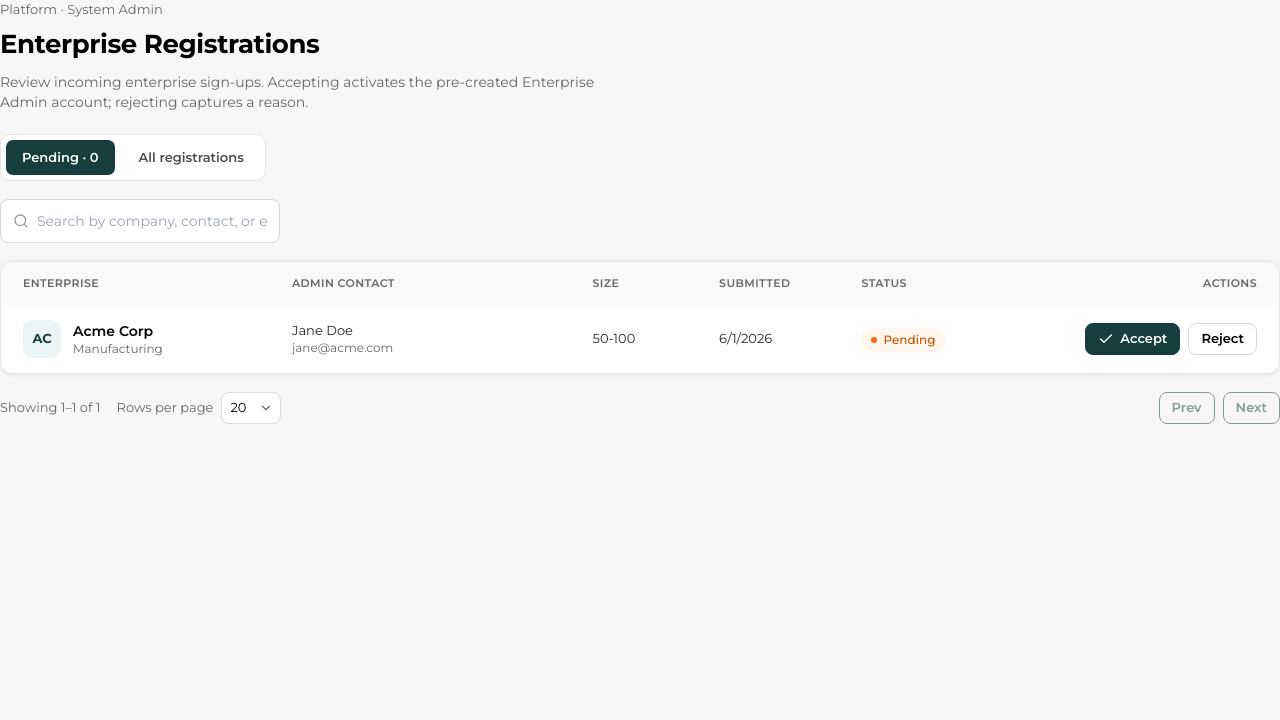
Reject with a reason posts it and reloads the list
Expected: the text "Acme Corp" is shown, x1=73 y1=320 x2=163 y2=340
Click the button "Reject": (1223, 338) x1=1188 y1=322 x2=1257 y2=354
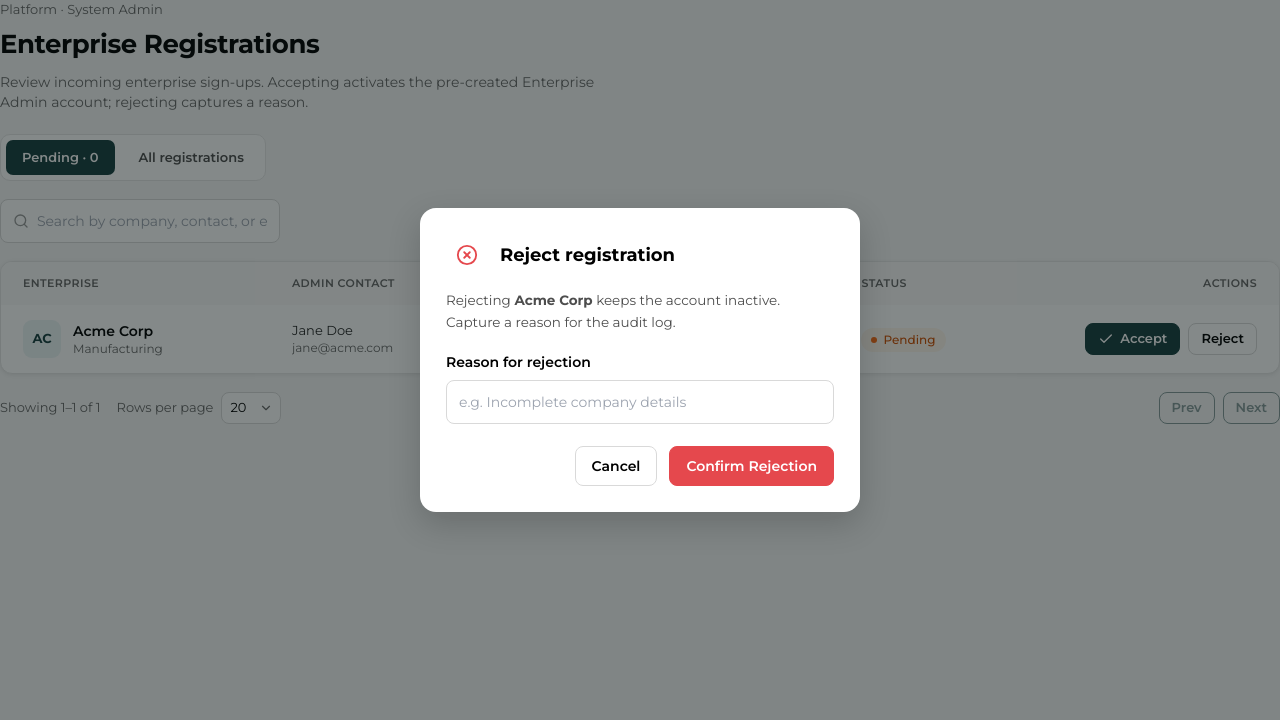
In the field with placeholder "e.g. Incomplete company details": (640, 402) x1=459 y1=392 x2=821 y2=412, type "Duplicate application"
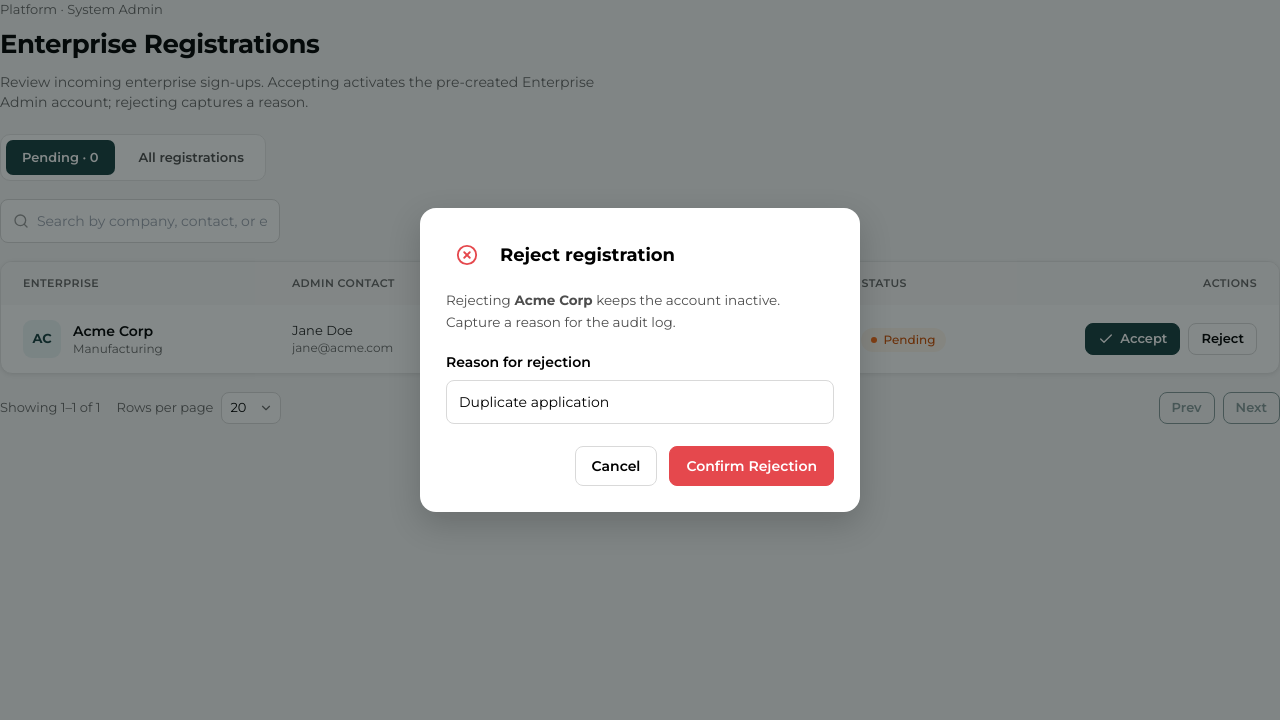
Click the button "Confirm Rejection": (752, 466) x1=669 y1=446 x2=834 y2=486
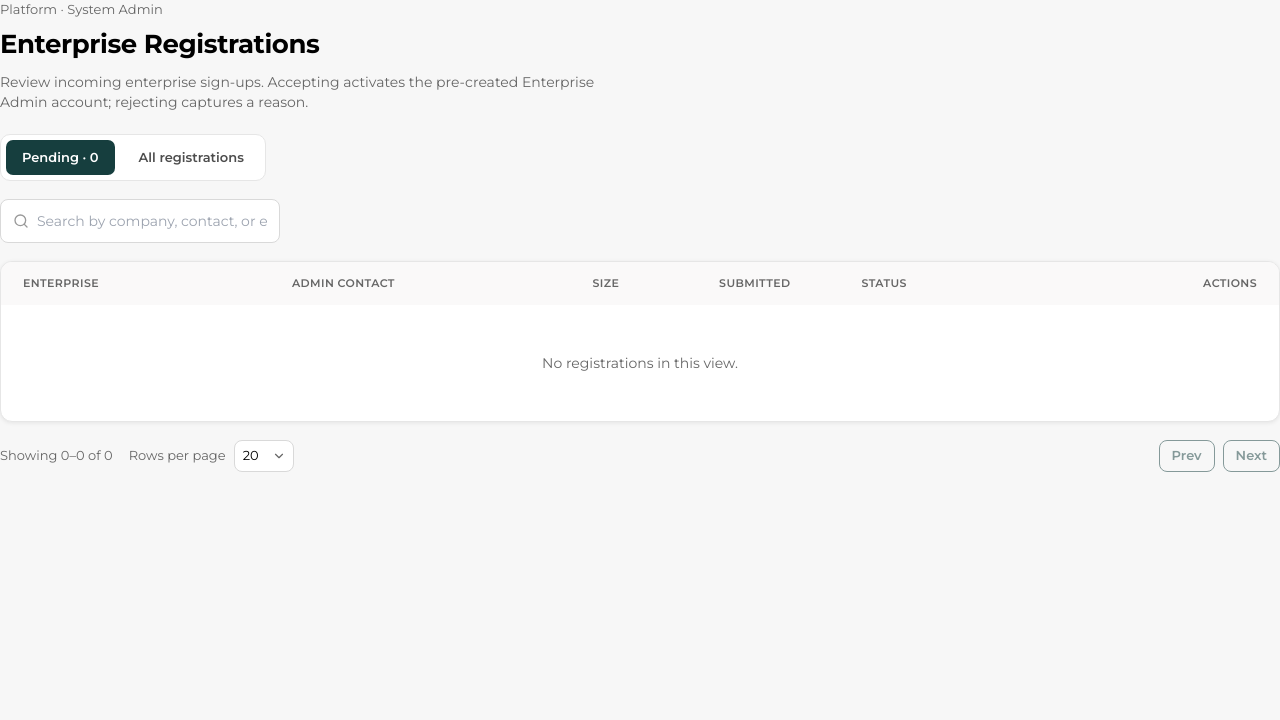
Now the text "No registrations in this view." is shown, box x1=542 y1=354 x2=738 y2=372
